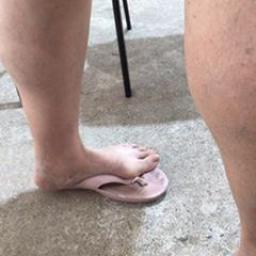Medial View -Left Foot-: (22, 116, 164, 194)
